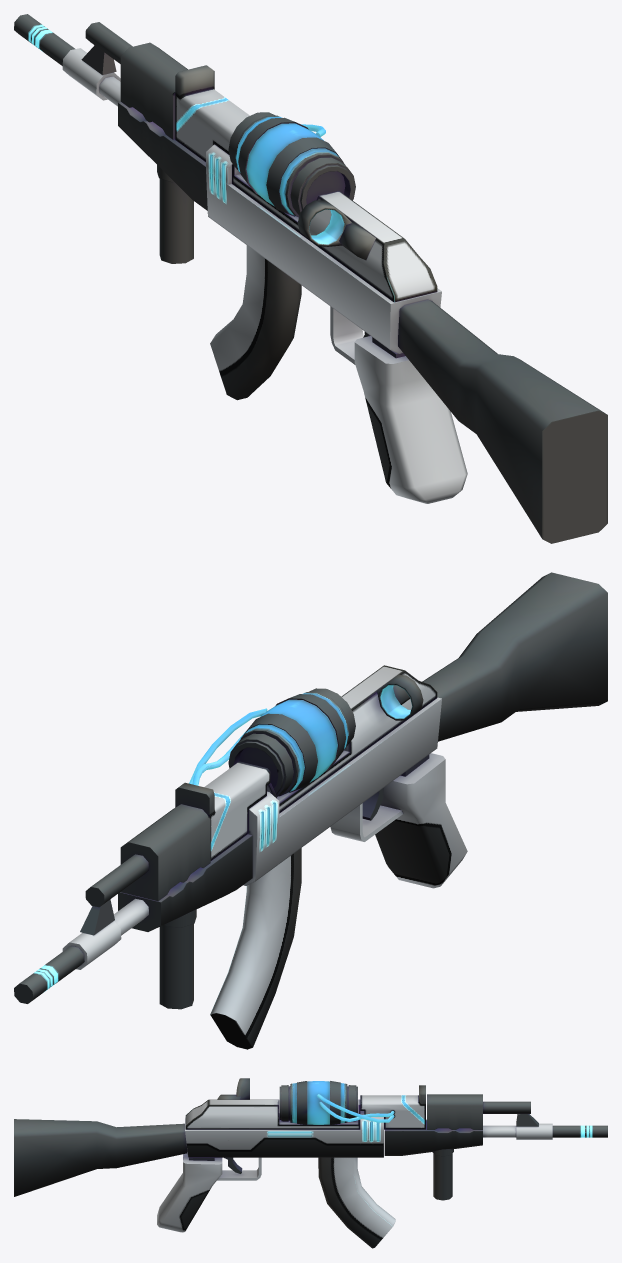
3 renders of one model, top to bottom at view 1: azimuth 30°, elevation 25°; view 2: azimuth 150°, elevation 25°; view 3: azimuth 270°, elevation 25°, orthographic. The views are drawn at different scales.
Parts seen in each view (by area): view 1: Ak47; view 2: Ak47; view 3: Ak47.
Part boxes in pixels (x1=…): Ak47: x1=14, y1=14, x2=607, y2=543; Ak47: x1=14, y1=572, x2=607, y2=1049; Ak47: x1=14, y1=1078, x2=607, y2=1248.
Size of the model in its own units: 7.18 by 18.93 by 62.
